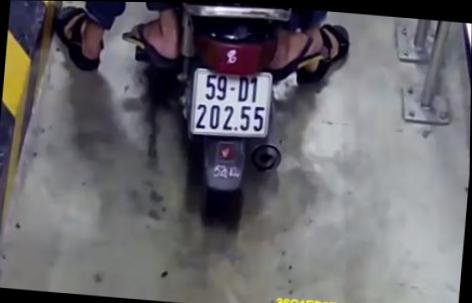LP: (186, 61, 275, 139)
